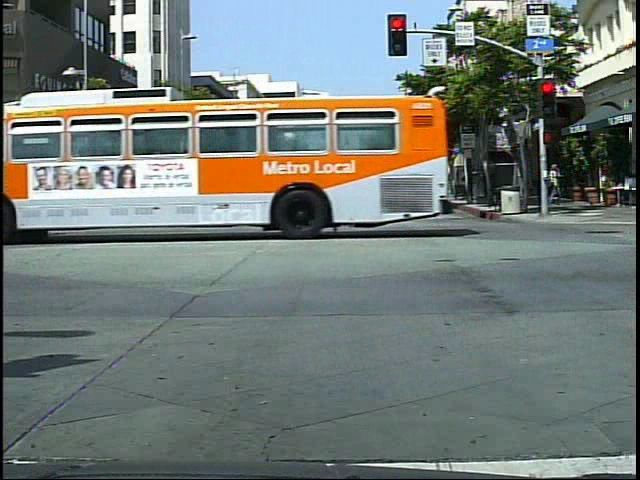person: (273, 165, 305, 229), (170, 168, 200, 234), (355, 166, 384, 230), (548, 160, 571, 206)
